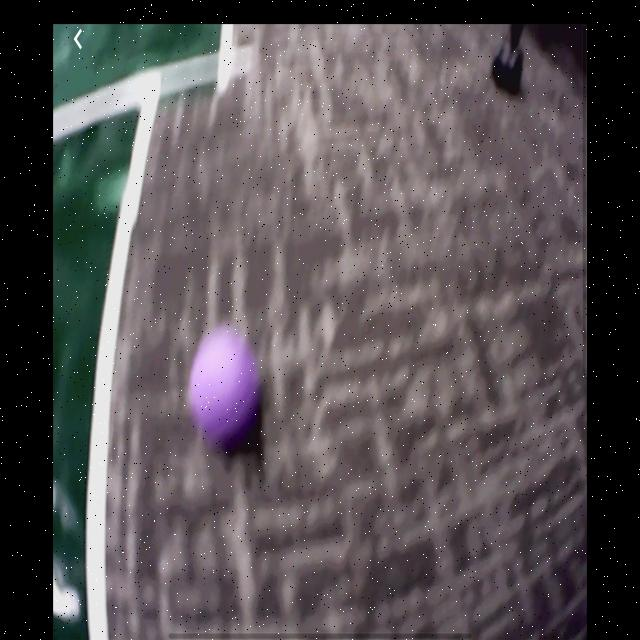ball: (188, 322, 265, 460)
